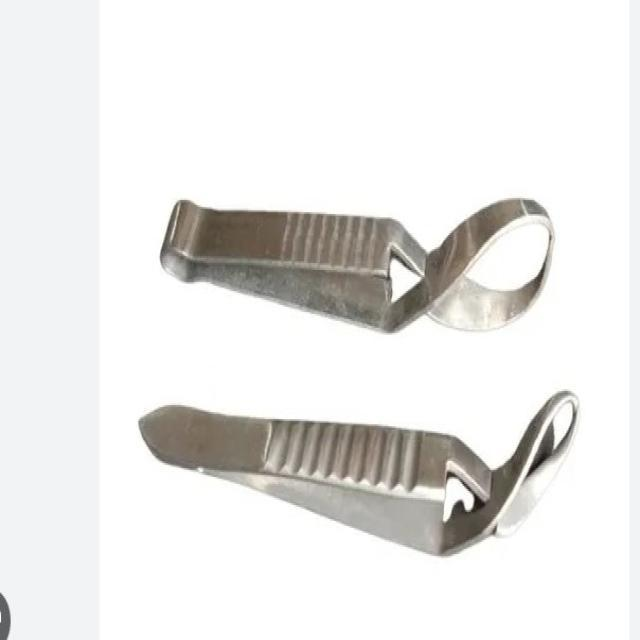Doyen Cross Action Towel Clamp: (153, 158, 566, 343)
